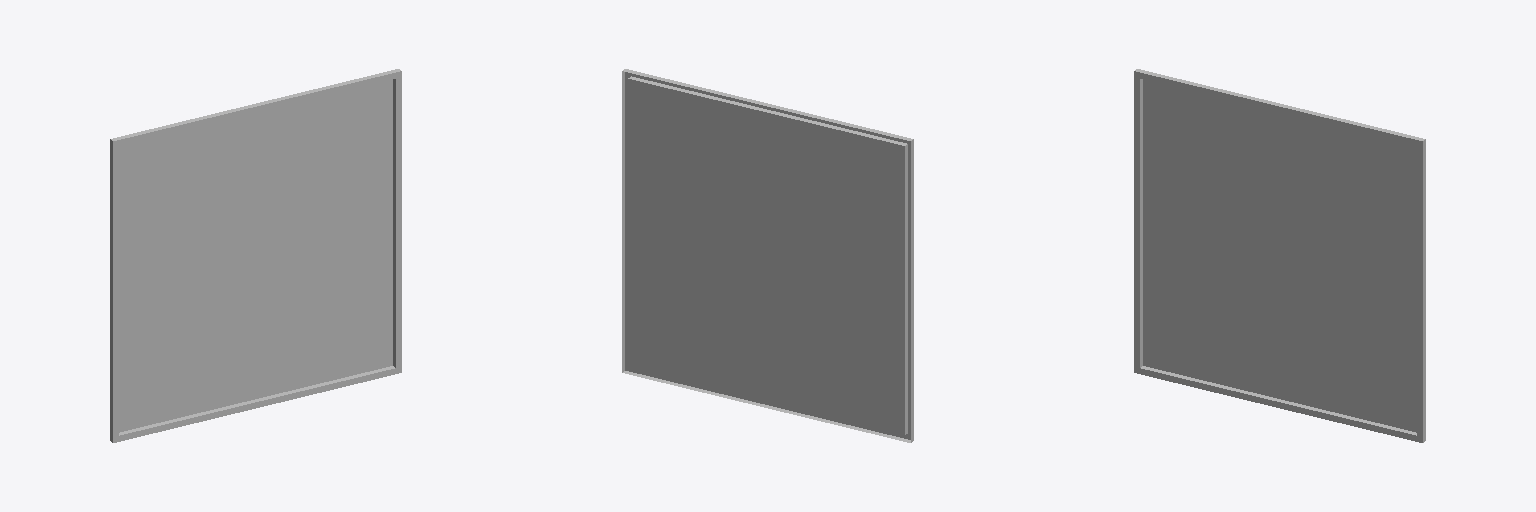
File: ground_flat.obj
3 renders of one model, left to right at view 1: azimuth 30°, elevation 25°; view 2: azimuth 150°, elevation 25°; view 3: azimuth 330°, elevation 25°, orthographic.
Parts seen in each view (by area): view 1: Ground_ground_flat; view 2: Ground_ground_flat; view 3: Ground_ground_flat.
Boxes of the visible parts, box(x1,y1,x2,y2) form: Ground_ground_flat: box(110, 69, 401, 442); Ground_ground_flat: box(622, 69, 913, 442); Ground_ground_flat: box(1134, 69, 1425, 442).
Bounding box in the file's own units: 100 × 100 × 1.93.